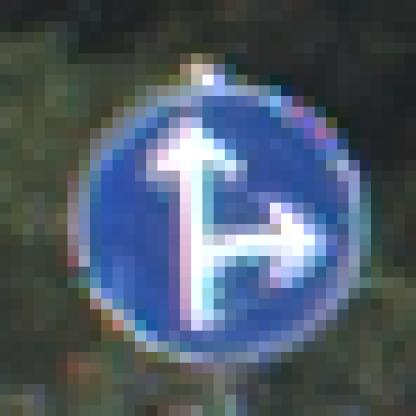Straight or Right: (57, 65, 361, 364)
